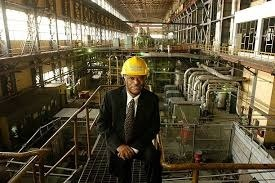helmet: (120, 57, 149, 78)
person with partial safety: (102, 56, 162, 182)
